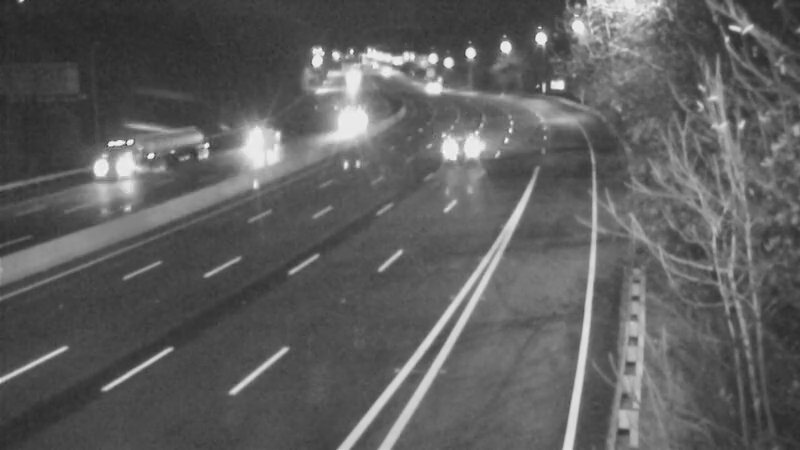vehicle: (68, 118, 148, 198), (409, 60, 459, 110), (429, 118, 479, 168), (226, 120, 276, 170), (329, 96, 379, 146)
